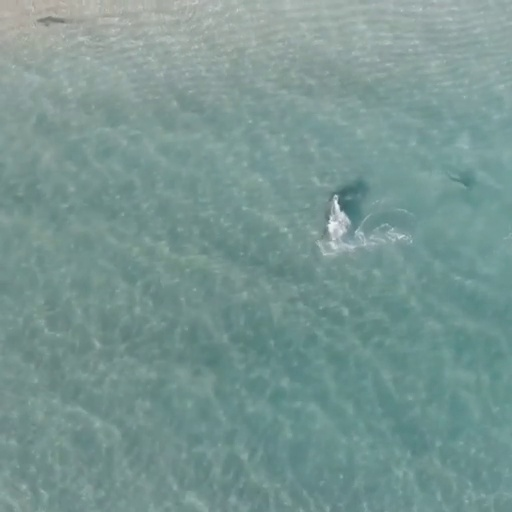shark: (322, 174, 371, 229)
